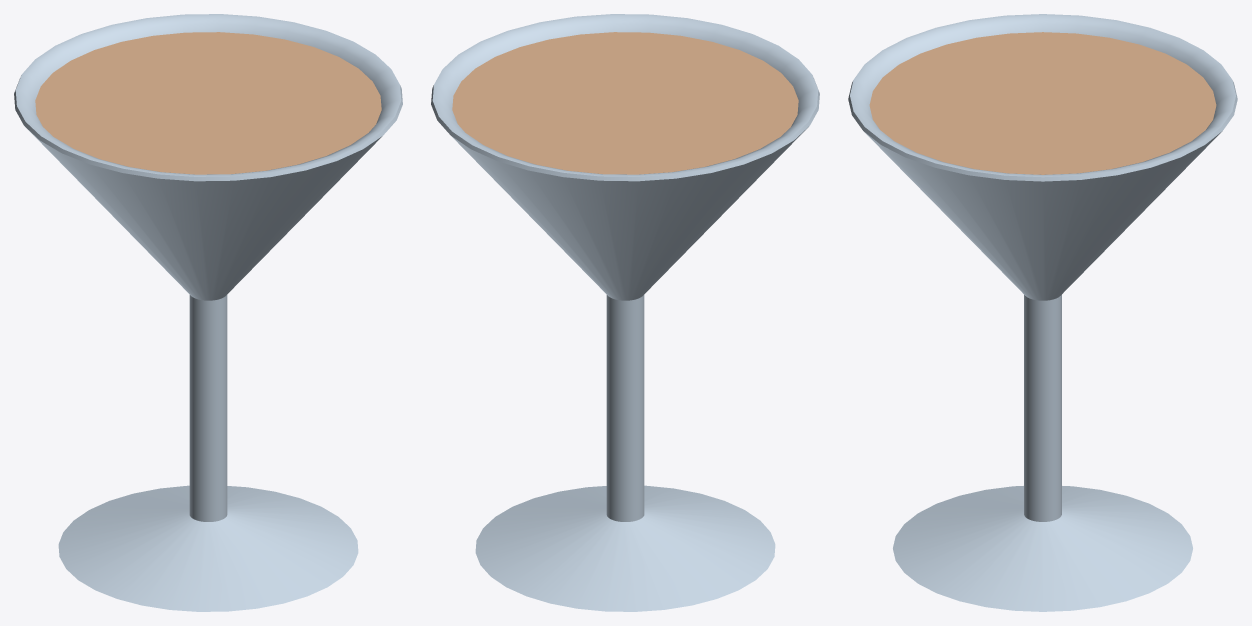
File: SM_Cocktail_EspressoMartini.fbx
The picture shows the model from 3 angles, left to right: view 1: azimuth 30°, elevation 25°; view 2: azimuth 150°, elevation 25°; view 3: azimuth 270°, elevation 25°; orthographic projection.
Visible parts, largest first — view 1: SM_Cocktail_EspressoMartini; view 2: SM_Cocktail_EspressoMartini; view 3: SM_Cocktail_EspressoMartini.
Boxes of the visible parts, <box> form: SM_Cocktail_EspressoMartini: <box>14,14,402,611</box>; SM_Cocktail_EspressoMartini: <box>431,14,819,611</box>; SM_Cocktail_EspressoMartini: <box>848,14,1237,611</box>.
Bounding box in the file's own units: 15.01 × 19.26 × 15.01.
